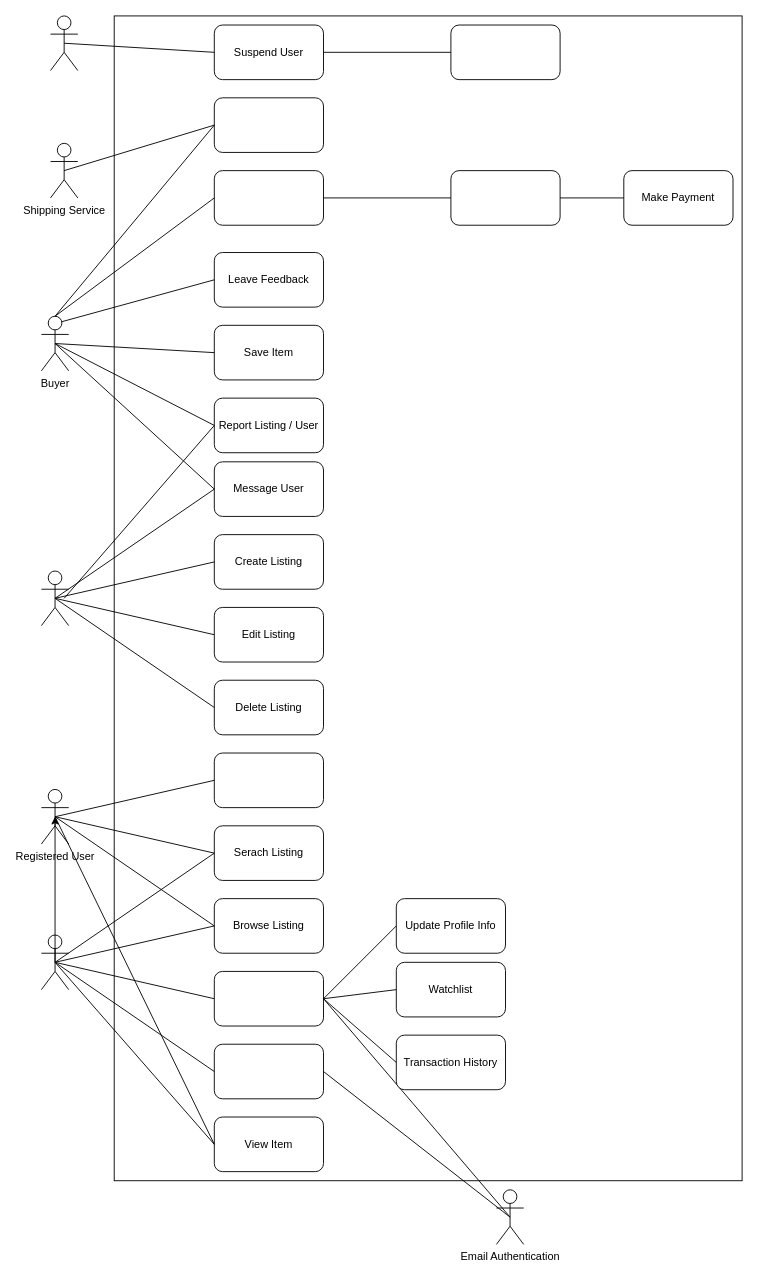
Image size: 758x1279. Some labels were removed from this diagram. The shapes that lost their labels are listed below. From the top down, each one's centre as x and y in pixels, then its label:
pixel 64 43: Admin
pixel 505 52: Review Reports
pixel 268 124: Track Delivery
pixel 268 197: Buy Item
pixel 505 197: Checkout
pixel 54 598: Seller
pixel 268 780: Logout
pixel 54 962: Visitor
pixel 268 998: Login
pixel 268 1071: Register
